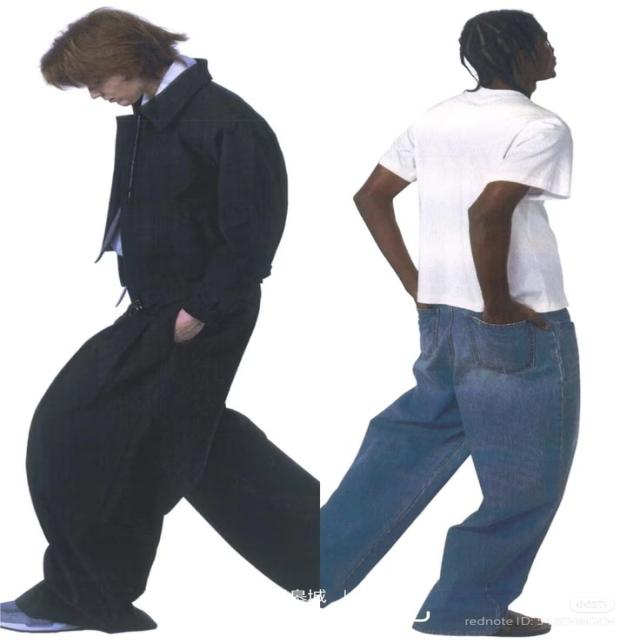9_cabeza_baja: (40, 9, 190, 107)
